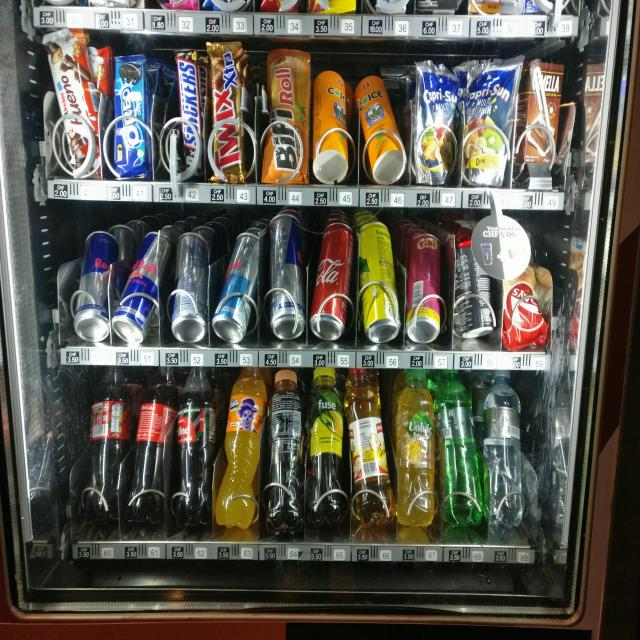7days_croissantschoko_packung_80_1_0000000000003: (504, 219, 540, 351)
bifi_roll__50__4251097402635: (263, 49, 310, 183)
bueno___43__4008400320328: (45, 30, 101, 171)
c-swiss_dosenabisicetea__33__9120025930135: (356, 73, 408, 182), (312, 68, 350, 185)
caferoyal_classicmacchiato__33__7617014164487: (454, 225, 496, 338)
caprisun_multivitamin__20__4000177605004: (461, 53, 510, 182), (409, 54, 457, 180)
coke__dose_33__54491472: (309, 221, 358, 340)
coke__flasche_50__54491472: (85, 367, 133, 522), (178, 364, 222, 520), (135, 363, 175, 527)
comella_schokodrink__33__7613100037253: (521, 54, 565, 168)
fanta___50__40822938: (217, 366, 269, 522)
fuse_lemon__50__5449000235947: (306, 362, 350, 530)
fuse_lemon_dose_33__5449000235947: (359, 220, 405, 342)
fuse_peach__50__5449000236623: (265, 369, 306, 526)
oreo___66__84100733: (112, 53, 149, 172)
ramseier_schorle__50__7610057012456: (344, 367, 397, 522)
redbull___33__90162909: (212, 230, 261, 341), (118, 230, 164, 347), (268, 209, 306, 340), (168, 227, 210, 338), (72, 229, 112, 341)
snickers___50__5000159461122: (172, 47, 206, 185)
tiki_himbeer_brause__50__00000000009342: (406, 228, 444, 343)
twix___50__5000159459228: (207, 40, 250, 183)
valser_classic__50__76404160: (432, 366, 487, 528)
valser_still__50__7610335002575: (481, 367, 528, 529)
volvic_pinapple__50__305764335648: (391, 368, 438, 526)
